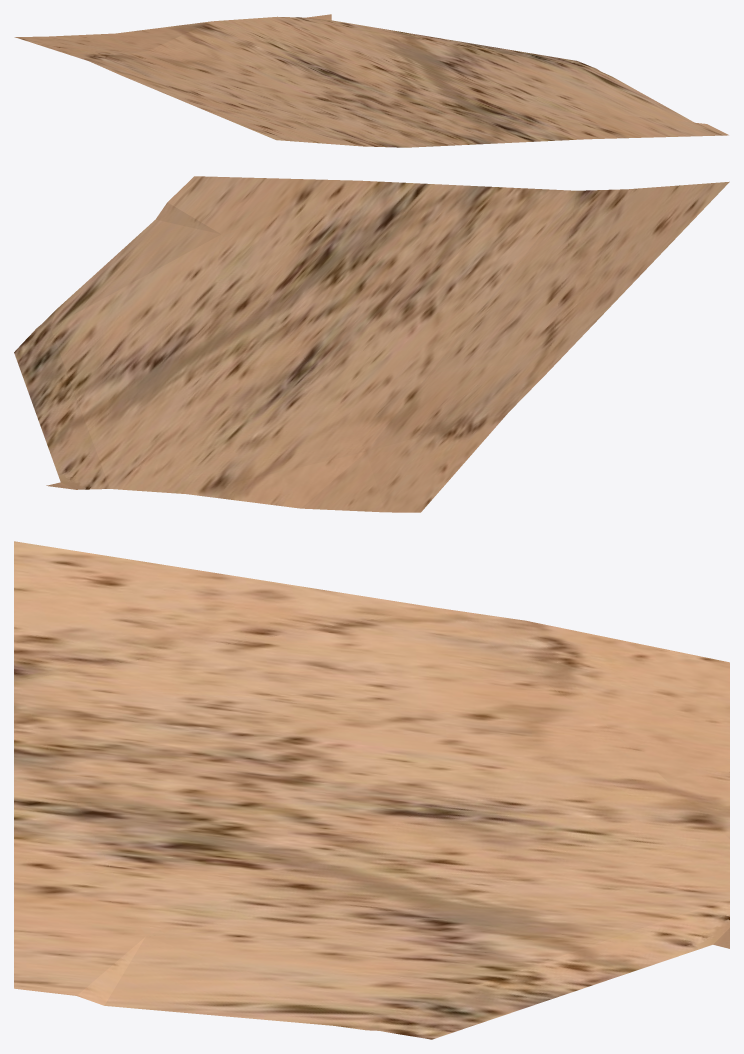
The picture shows the model from 3 angles, top to bottom: view 1: azimuth 30°, elevation 25°; view 2: azimuth 150°, elevation 25°; view 3: azimuth 270°, elevation 25°; orthographic projection. The views are drawn at different scales.
Bounding box in the file's own units: 1.04 × 0.3154 × 1.04.
3 materials, 3 textured.
